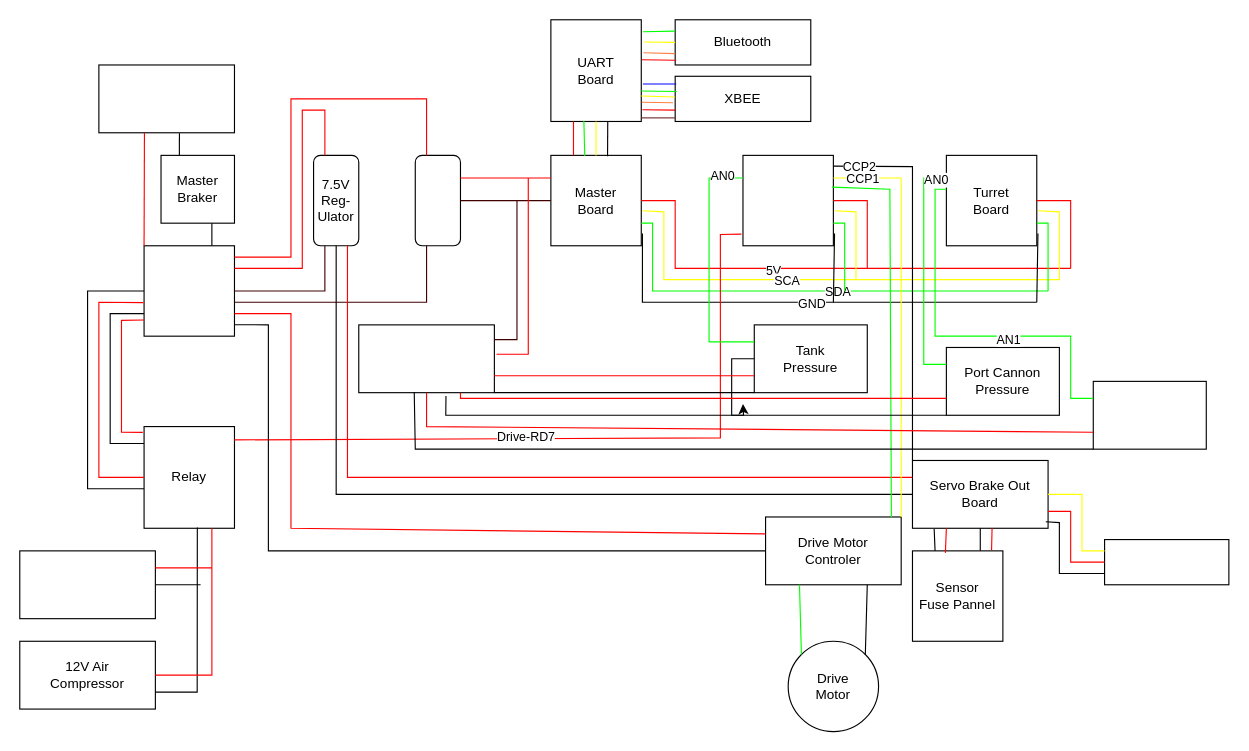
Image size: 1249x751. Some labels were removed from this diagram. Each missing label, with the centre of its shape:
"12V Cooling Fan" belongs at point (87, 584).
"5V Reg- Ulator" belongs at point (437, 200).
"Battries" belongs at point (166, 98).
"Drive Board" belongs at point (787, 200).
"Main Fuse Pannel" belongs at point (188, 290).
"Sensor PWR Board" belongs at point (426, 358).
"STBD Cannon Pressure" belongs at point (1149, 414).
"Stering Servo" belongs at point (1166, 561).
